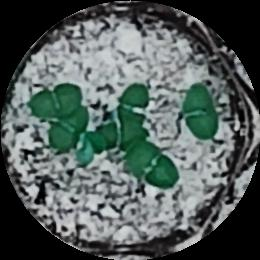Basil: (179, 82, 224, 138), (127, 143, 180, 185), (96, 121, 157, 150), (38, 81, 86, 117), (50, 108, 91, 150), (119, 83, 151, 128)
